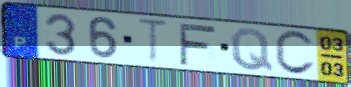3: (43, 12, 79, 57)
6: (87, 16, 120, 60)
C: (273, 29, 318, 78)
F: (176, 21, 218, 66)
Q: (228, 27, 276, 73)
T: (134, 16, 171, 66)
